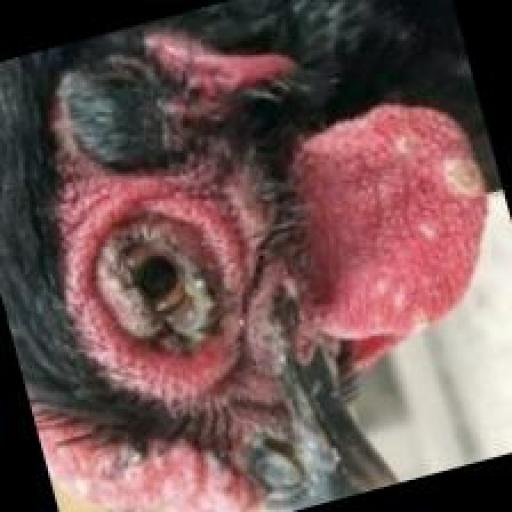disease: (320, 108, 488, 342), (74, 196, 249, 380), (24, 385, 281, 510)
